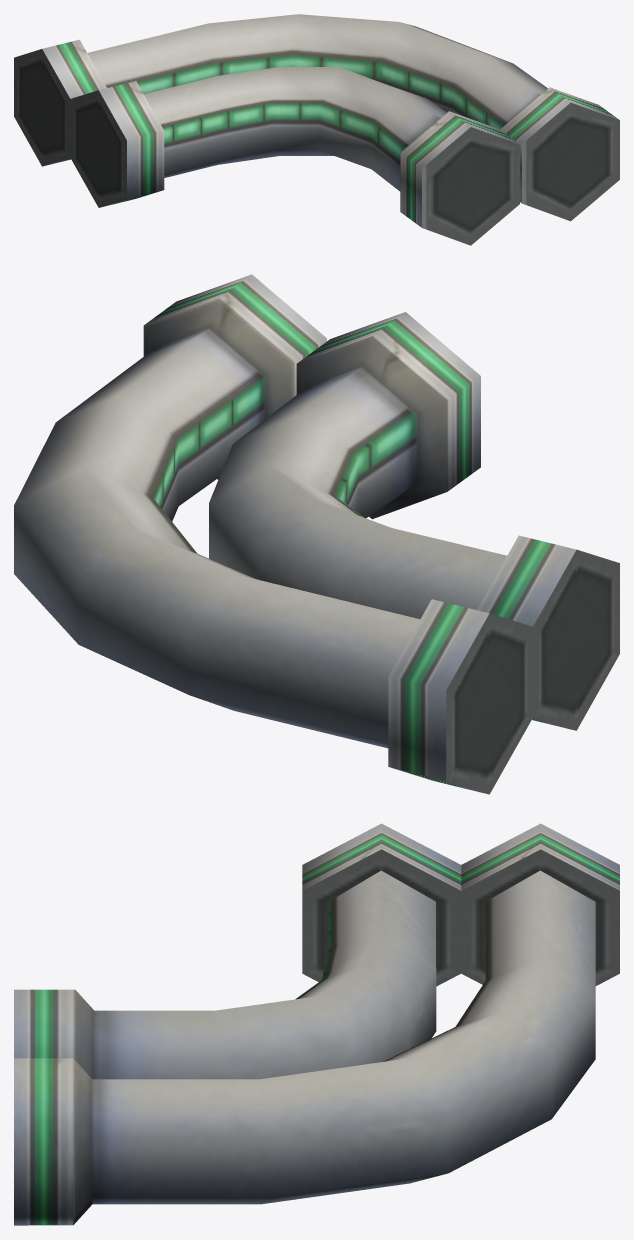
Rendered from PK_model_waterpipe03.FBX.
The picture shows the model from 3 angles, top to bottom: view 1: azimuth 30°, elevation 25°; view 2: azimuth 150°, elevation 25°; view 3: azimuth 270°, elevation 25°; orthographic projection. The views are drawn at different scales.
Parts seen in each view (by area): view 1: PK_model_waterpipe03; view 2: PK_model_waterpipe03; view 3: PK_model_waterpipe03.
Part boxes in pixels (x1=…): PK_model_waterpipe03: x1=14, y1=14, x2=619, y2=245; PK_model_waterpipe03: x1=14, y1=274, x2=619, y2=794; PK_model_waterpipe03: x1=14, y1=823, x2=619, y2=1225.
Size of the model in its own units: 249 by 72.56 by 238.
